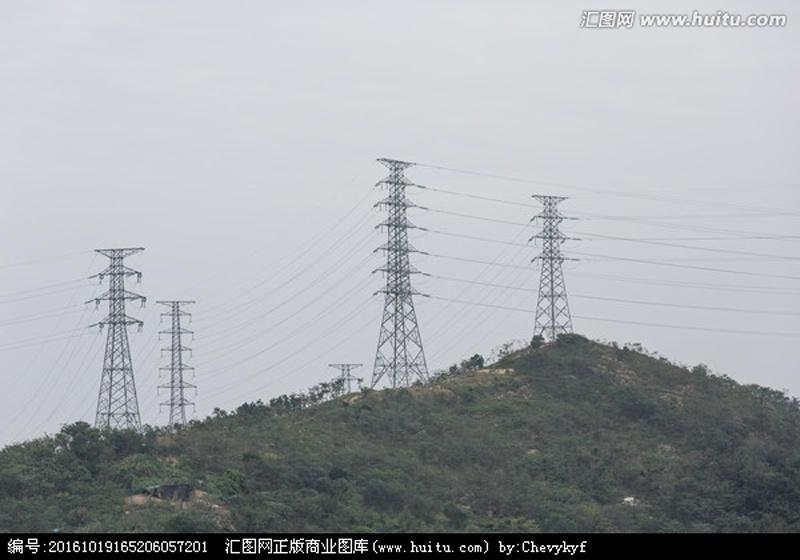power_tower: (362, 156, 434, 386), (82, 242, 146, 438), (522, 184, 583, 346), (150, 294, 205, 423), (326, 362, 368, 399)
